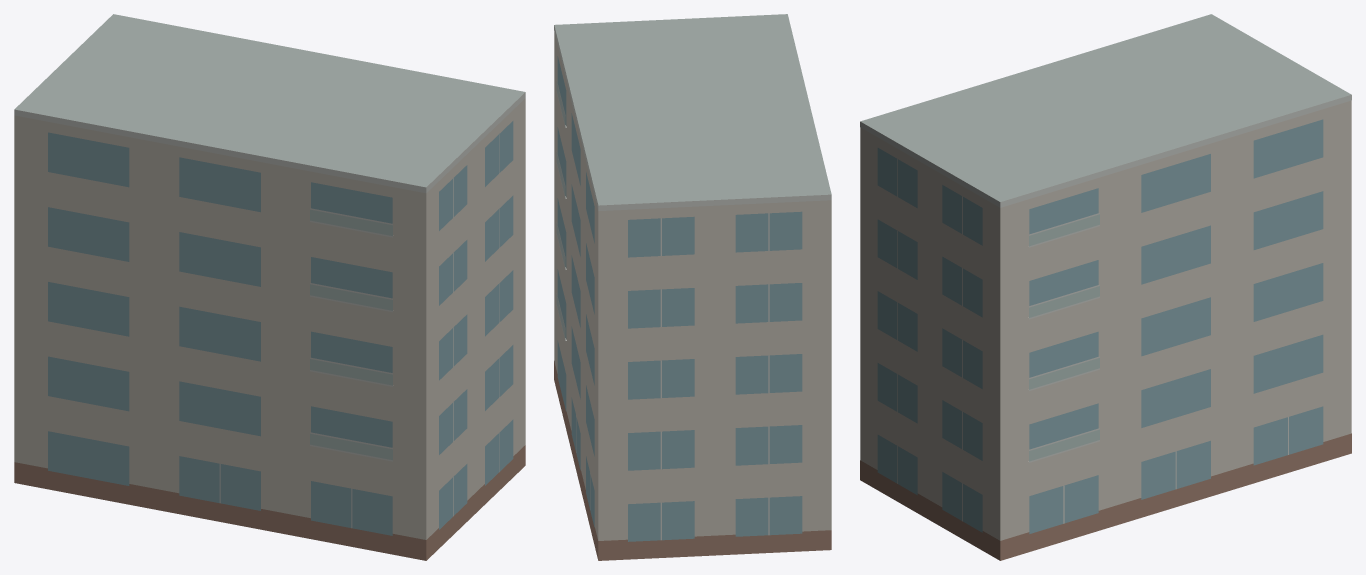
Rendered from survey-upis-32586820.glb.
The picture shows the model from 3 angles, left to right: view 1: azimuth 30°, elevation 25°; view 2: azimuth 150°, elevation 25°; view 3: azimuth 270°, elevation 25°; orthographic projection. The views are drawn at different scales.
Parts seen in each view (by area): view 1: survey-upis-32586820.tmp; view 2: survey-upis-32586820.tmp; view 3: survey-upis-32586820.tmp.
Boxes of the visible parts, x1,y1,x2,y2 form: survey-upis-32586820.tmp: (14,14,525,560); survey-upis-32586820.tmp: (554,14,831,560); survey-upis-32586820.tmp: (860,14,1351,560).
Size of the model in its own units: 17.22 by 15.3 by 19.02.
